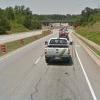Car: (36, 30, 76, 65)
